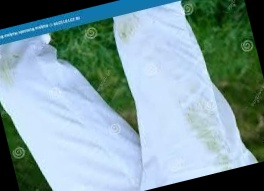earth: (183, 93, 223, 152), (115, 18, 141, 43), (0, 57, 20, 84), (211, 146, 231, 172)
